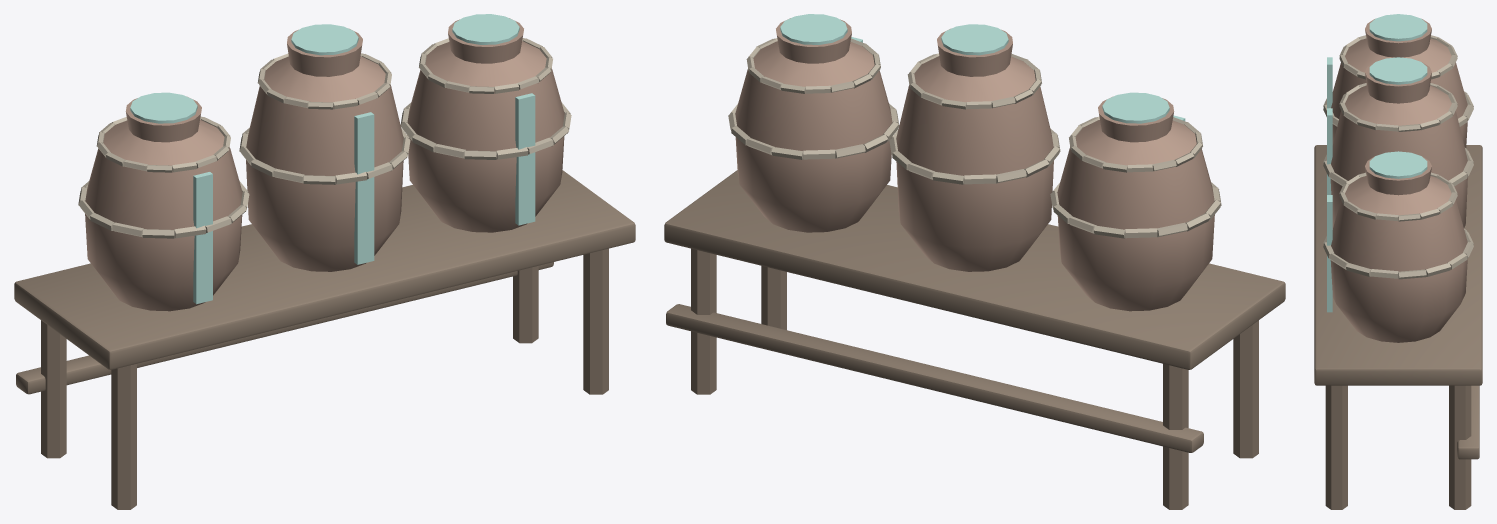
Rendered from quest_jars.gltf.
The picture shows the model from 3 angles, left to right: view 1: azimuth 30°, elevation 25°; view 2: azimuth 150°, elevation 25°; view 3: azimuth 270°, elevation 25°; orthographic projection. The views are drawn at different scales.
Visible parts, largest first — view 1: Body, Fill, Glow; view 2: Body, Glow; view 3: Body, Glow, Fill.
Boxes of the visible parts, left/top/right/bottom form: Body: left=14, top=18, right=635, bottom=509; Fill: left=193, top=93, right=535, bottom=304; Glow: left=130, top=14, right=519, bottom=123; Body: left=664, top=18, right=1285, bottom=509; Glow: left=780, top=14, right=1169, bottom=123; Body: left=1314, top=19, right=1482, bottom=509; Glow: left=1369, top=14, right=1427, bottom=178; Fill: left=1327, top=57, right=1332, bottom=312.
Bounding box in the file's own units: 1.9 × 1.32 × 0.6.
